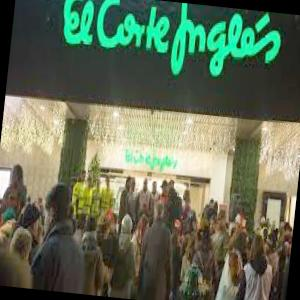corte_ingles: (49, 0, 290, 79), (121, 145, 178, 175)
